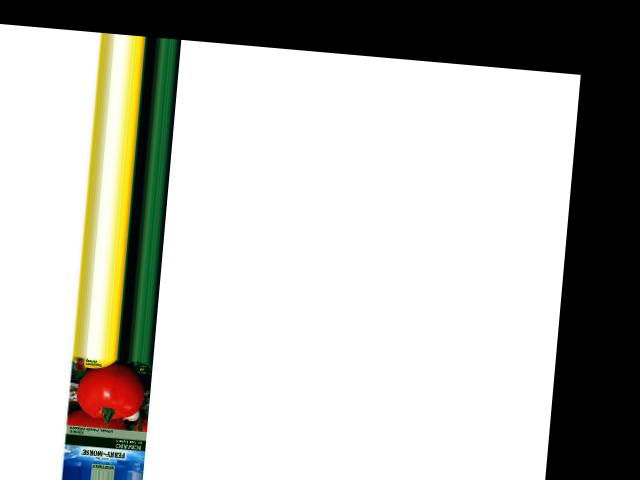tomato: (75, 359, 146, 421)
